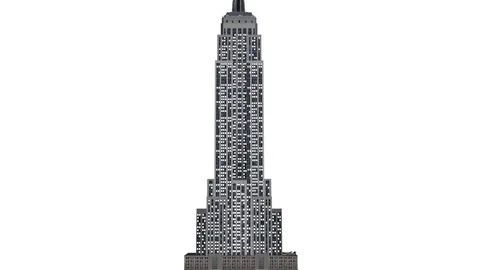high_rise_building: (207, 2, 272, 252)
